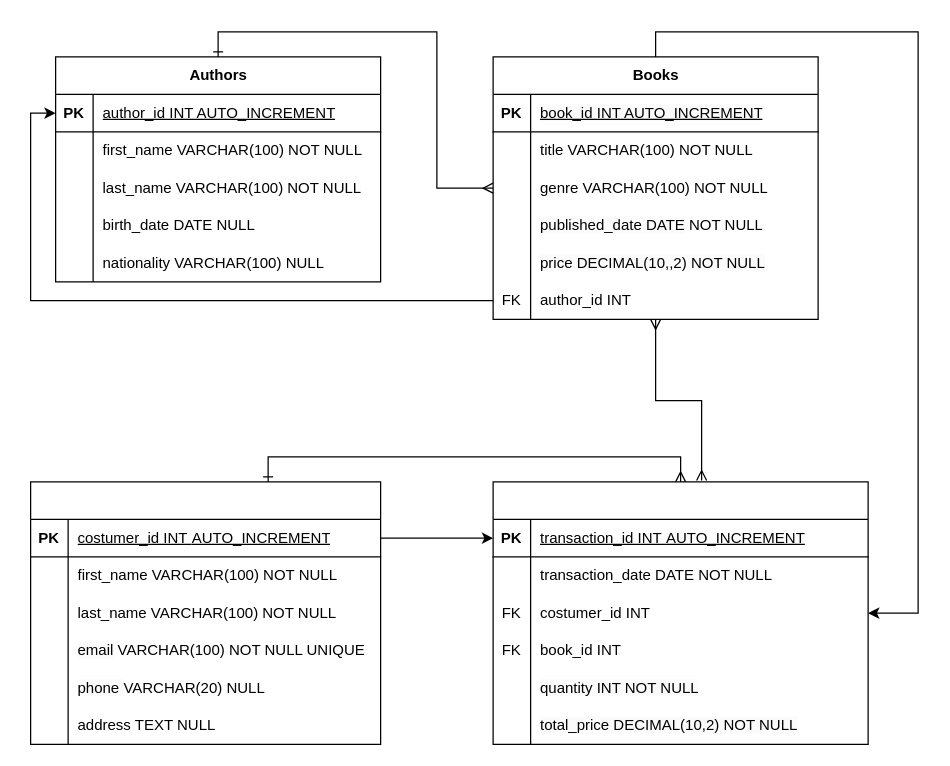
The diagram is 950 pixels wide and 766 high, and some of its shapes have lost their labels. Each missing label, with the box of its shape:
Costumers: (29, 481, 381, 744)
Transactions: (492, 481, 868, 744)
